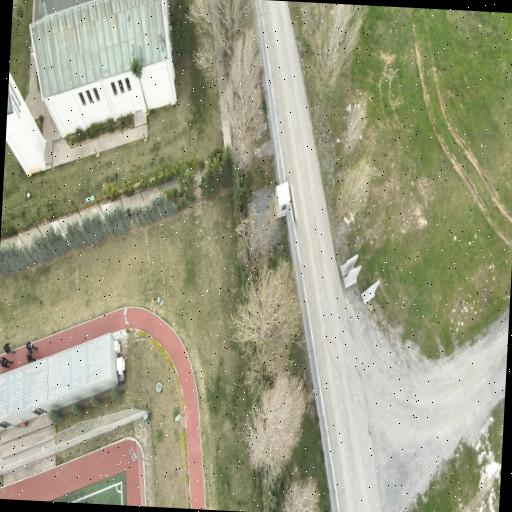person: (25, 341, 36, 353), (0, 357, 11, 368), (3, 343, 14, 353), (26, 351, 35, 362)
